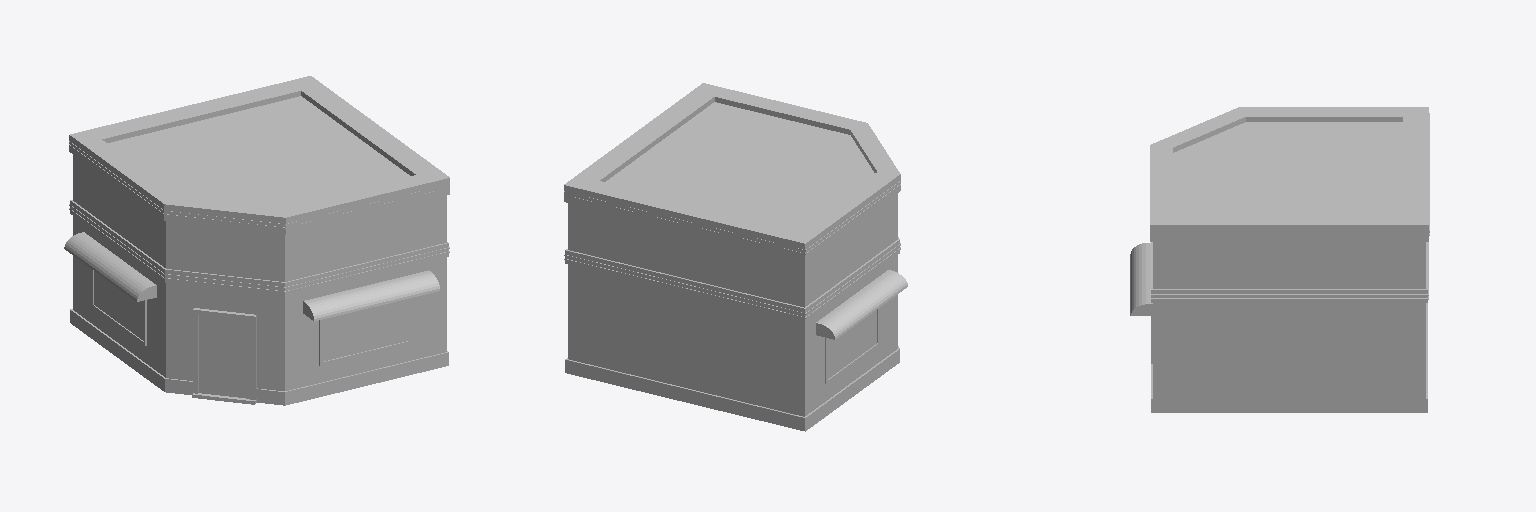
Rendered from Building_Books Shop.obj.
The picture shows the model from 3 angles: view 1: azimuth 30°, elevation 25°; view 2: azimuth 150°, elevation 25°; view 3: azimuth 270°, elevation 25°; orthographic projection.
Visible parts, largest first — view 1: Building_Books_Shop; view 2: Building_Books_Shop; view 3: Building_Books_Shop.
Part boxes in pixels (x1,y1,x2,y2): Building_Books_Shop: (64,76,449,405); Building_Books_Shop: (564,83,907,431); Building_Books_Shop: (1130,107,1429,412).
Bounding box in the file's own units: 474 × 329 × 474.